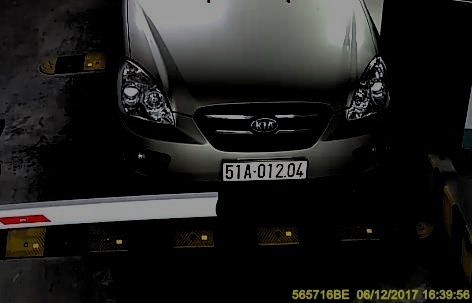plate: (219, 156, 308, 183)
